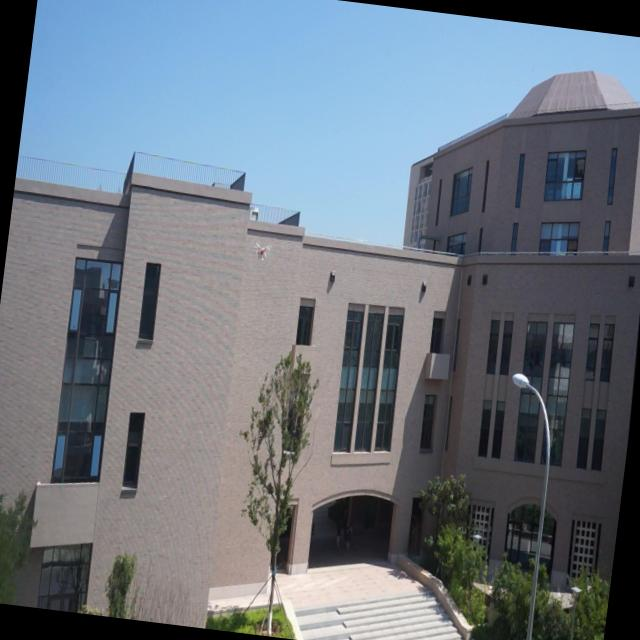drone: (253, 239, 272, 265)
